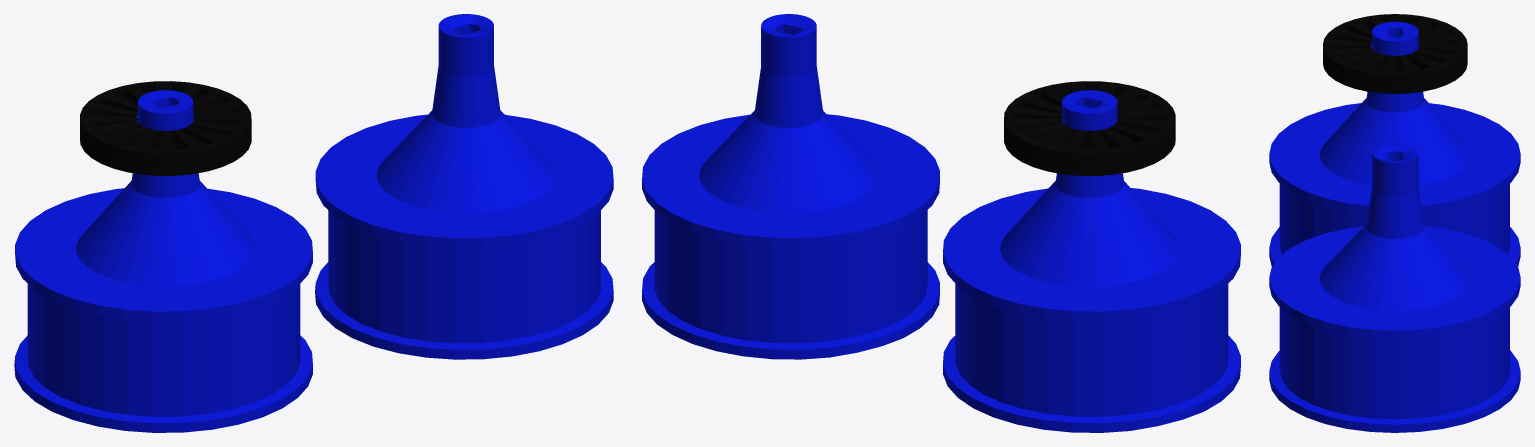
The model's file is rear_wheels.glb.
3 renders of one model, left to right at view 1: azimuth 30°, elevation 25°; view 2: azimuth 150°, elevation 25°; view 3: azimuth 270°, elevation 25°, orthographic. The views are drawn at different scales.
Parts seen in each view (by area): view 1: VizDriveRearWheels; view 2: VizDriveRearWheels; view 3: VizDriveRearWheels.
Boxes of the visible parts, x1,y1,x2,y2 form: VizDriveRearWheels: (14, 14, 613, 432); VizDriveRearWheels: (642, 14, 1240, 432); VizDriveRearWheels: (1269, 14, 1520, 432).
Size of the model in its own units: 127 by 58.82 by 58.85.
